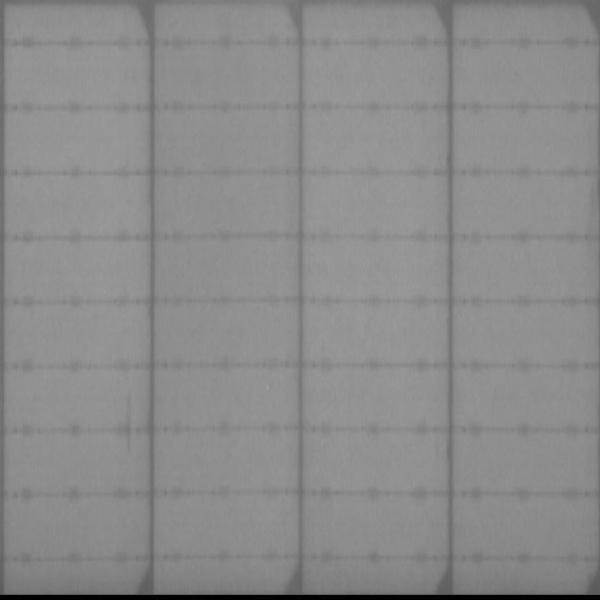scratch: (121, 397, 131, 451)
